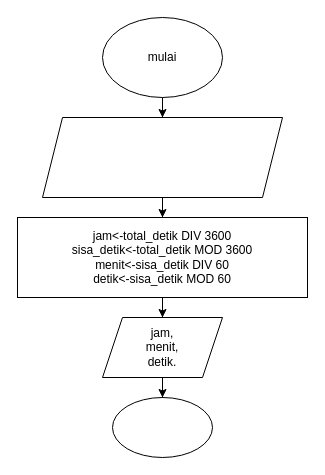
The diagram is 325 pixels wide and 475 high, and some of its shapes have lost their labels. The shapes that lost their labels are listed below. From the top down, each one's centre as x and y in pixels, then its label:
(162,157): Total detik, jam, sisa_detik, menit, detik.
(162,427): selesai
